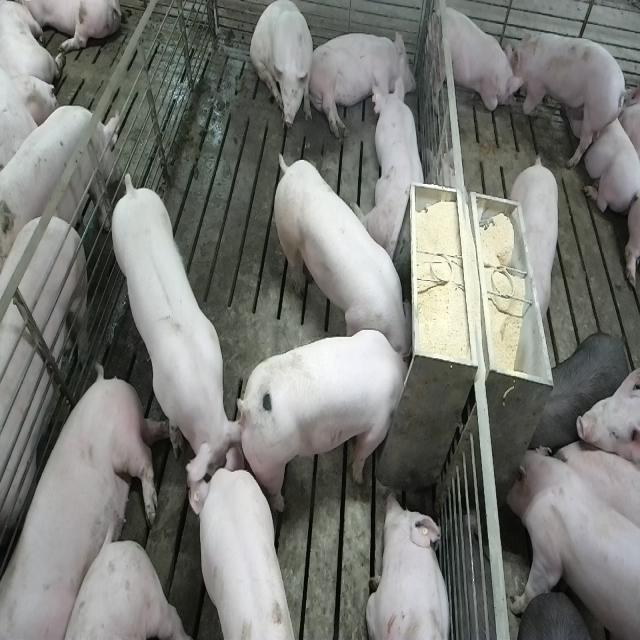Feeding: (244, 329, 419, 514), (270, 144, 410, 358)
Lateral_lying: (4, 365, 168, 640), (307, 27, 417, 140)
Sitting: (422, 0, 518, 123), (250, 2, 315, 137)
Standing: (110, 170, 247, 498), (0, 207, 91, 569), (505, 445, 639, 640), (191, 467, 301, 640), (0, 101, 116, 257), (510, 26, 626, 164), (534, 330, 628, 448), (512, 151, 562, 326)
Sternal_lying: (366, 489, 454, 640), (361, 76, 429, 263), (563, 81, 639, 212)
